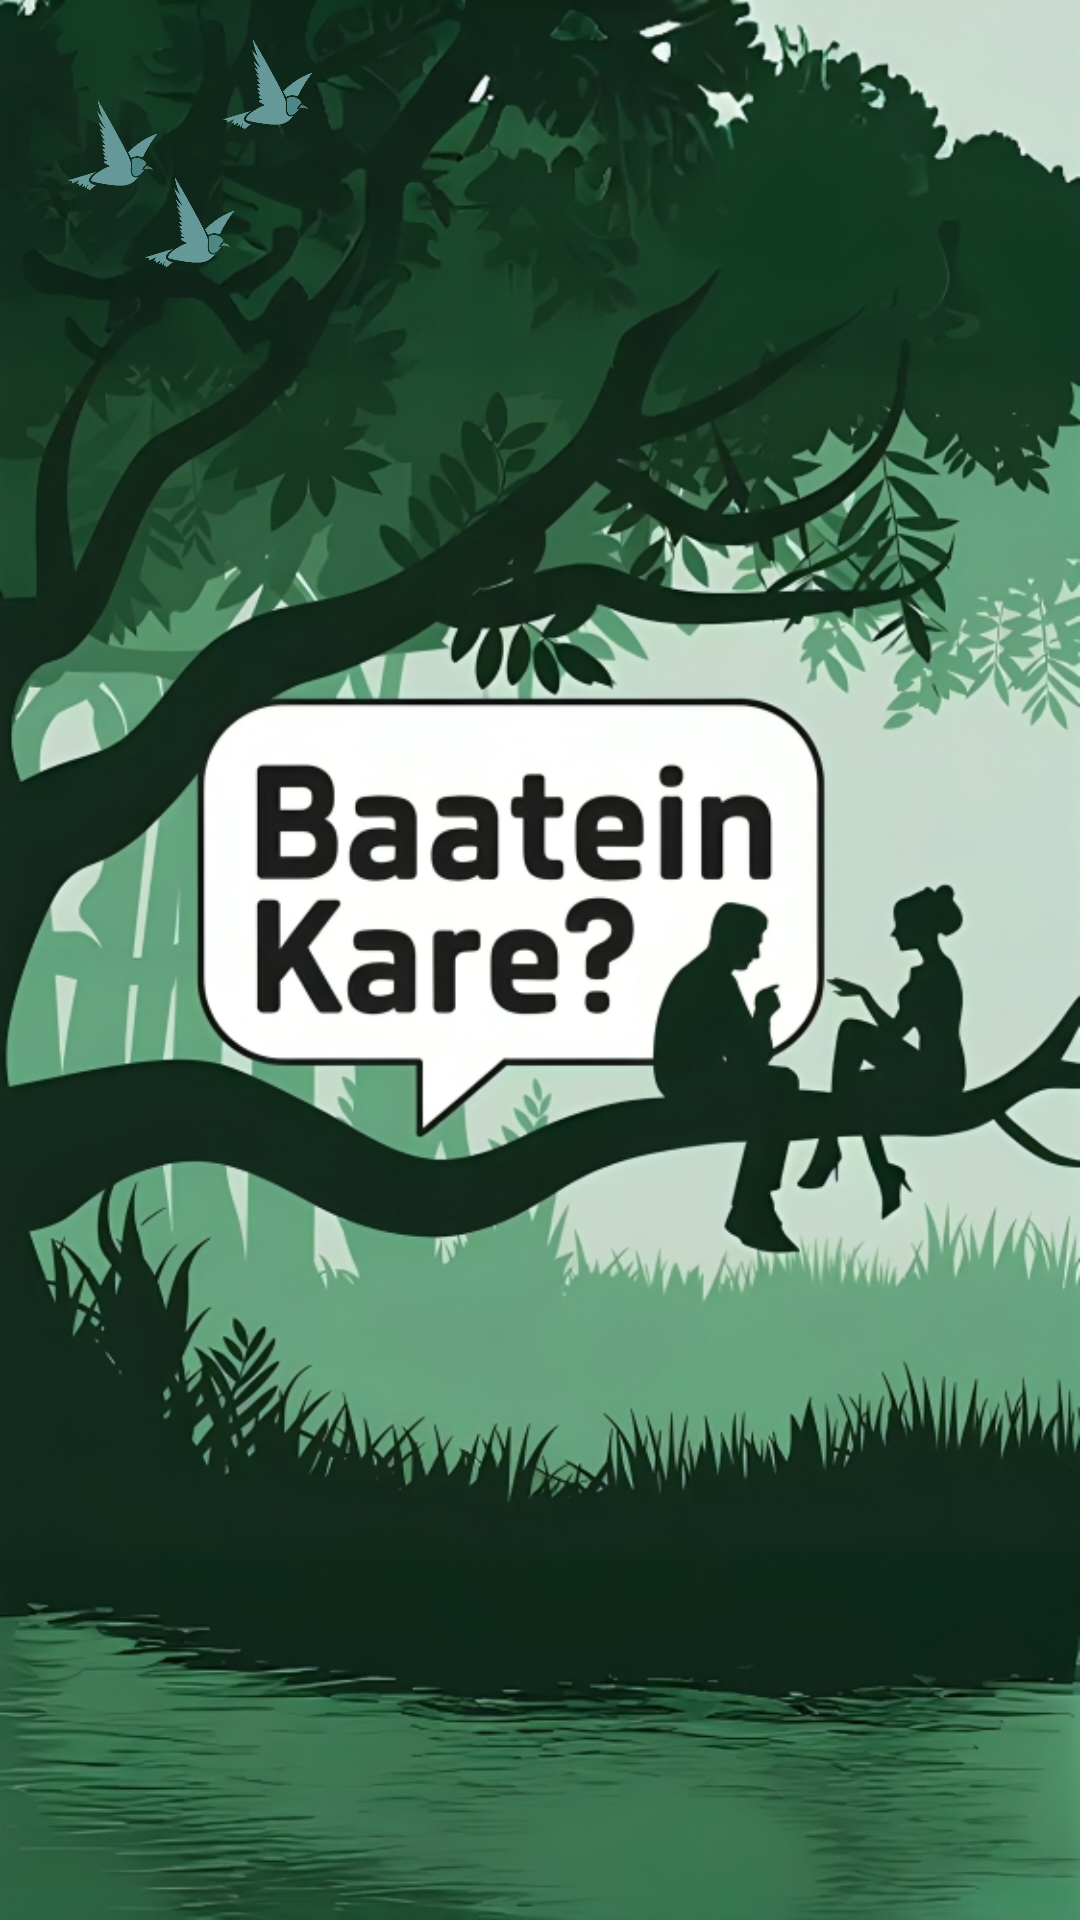

Locate icon controls on the screen. Image size 1080px×1920px, boxes as (x1, y1, x2, y2).
bird: (223, 40, 312, 129), (68, 101, 157, 190), (145, 178, 235, 268)
